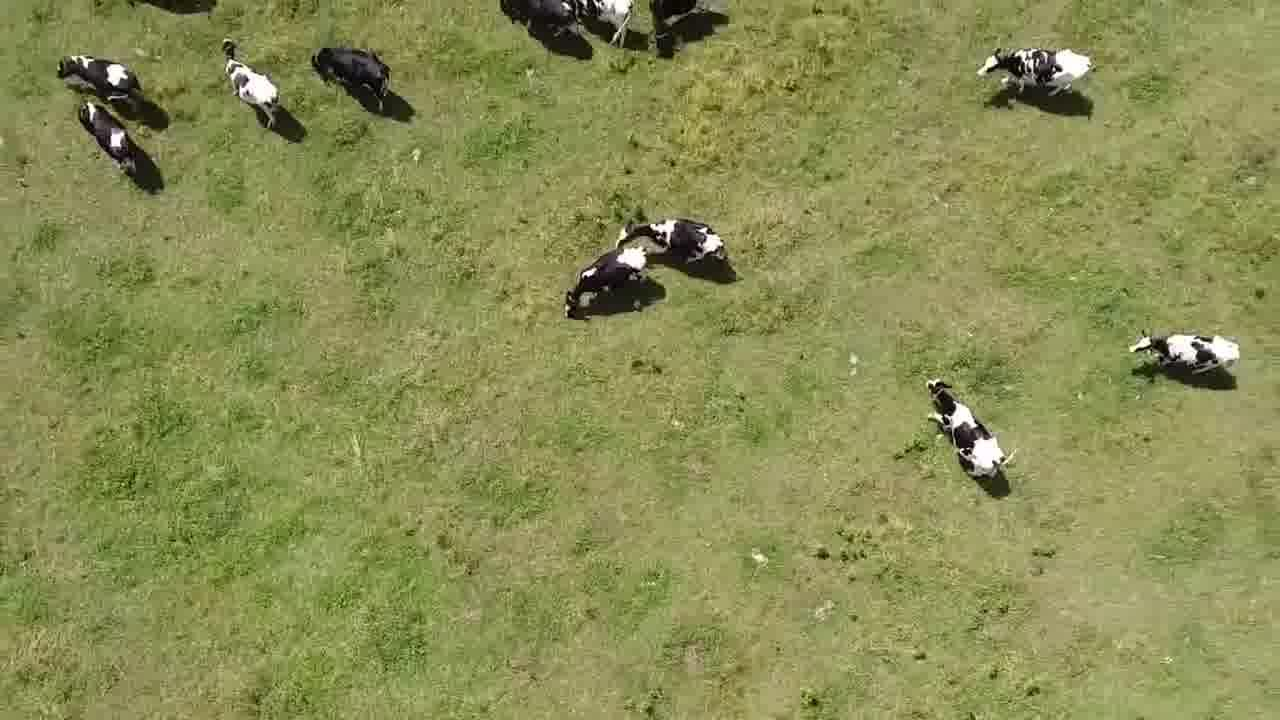cow: (919, 372, 1017, 485), (969, 40, 1104, 107), (307, 40, 404, 121), (1130, 325, 1245, 391), (560, 246, 655, 325), (613, 211, 730, 271), (217, 35, 285, 134), (70, 99, 145, 181), (53, 51, 144, 103), (513, 0, 575, 52), (577, 0, 641, 50), (648, 0, 691, 61)
